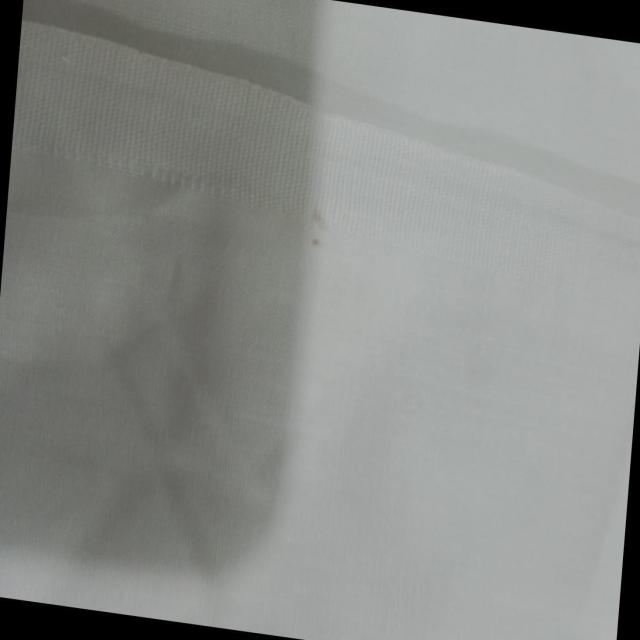stain: (292, 185, 342, 271)
